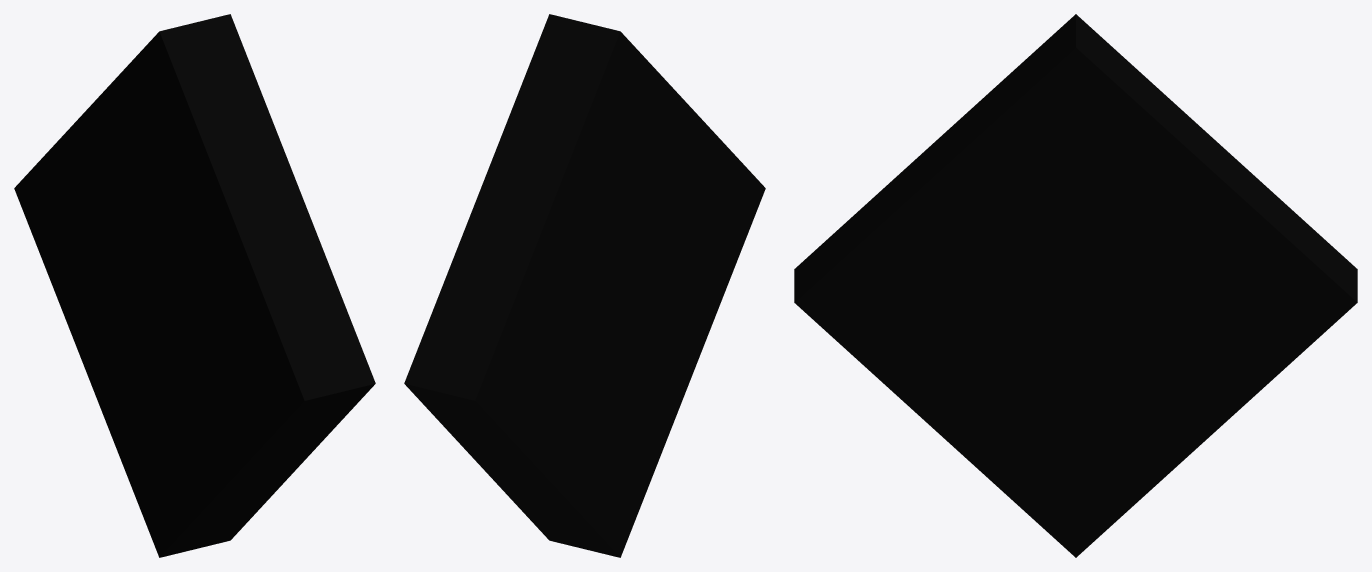
Rendered from M13_Dynamic1Stone_2kg.fbx.
3 views of the same model, side by side, from view 1: azimuth 30°, elevation 25°; view 2: azimuth 150°, elevation 25°; view 3: azimuth 270°, elevation 25° (orthographic). The views are drawn at different scales.
Visible parts, largest first — view 1: Stone1; view 2: Stone1; view 3: Stone1.
Boxes of the visible parts, <box> form: Stone1: <box>14,14,375,557</box>; Stone1: <box>404,14,765,557</box>; Stone1: <box>794,14,1357,557</box>.
Size of what is drawn, in the model's own units: 0.8 by 5.66 by 5.66.
